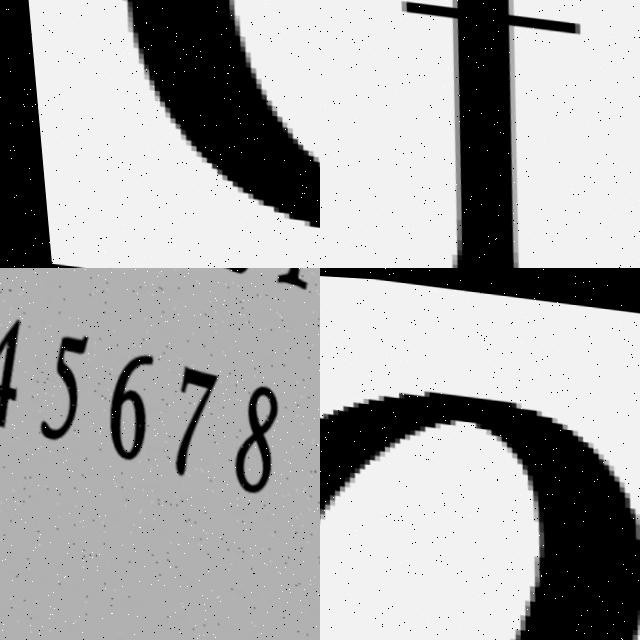4: (0, 294, 44, 442)
5: (5, 306, 115, 463)
6: (69, 323, 176, 482)
7: (136, 339, 241, 504)
8: (194, 349, 305, 523)
E: (122, 0, 320, 233)
F: (350, 0, 640, 268)
O: (320, 386, 640, 640)
